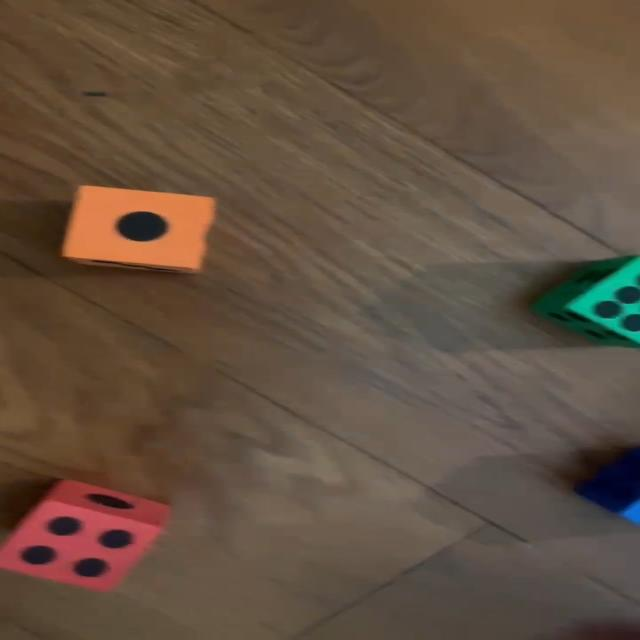blue_block: (580, 446, 640, 526)
red_block: (0, 482, 169, 592)
